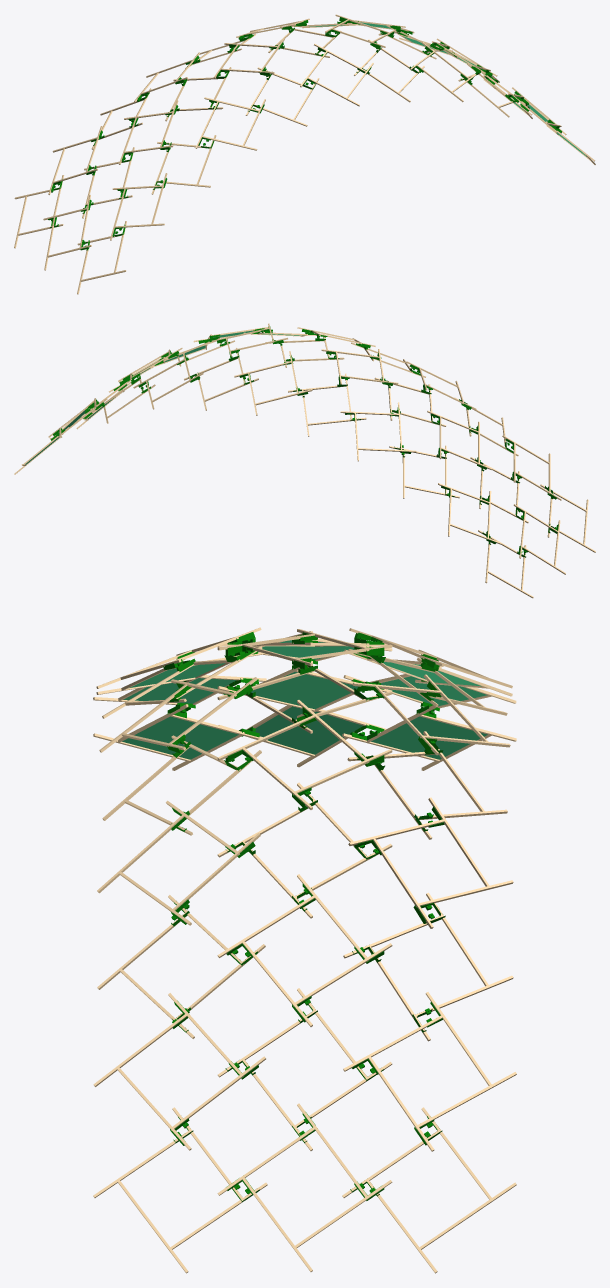
File: DeLIGHT_Seaweed02.glb
3 renders of one model, top to bottom at view 1: azimuth 30°, elevation 25°; view 2: azimuth 150°, elevation 25°; view 3: azimuth 270°, elevation 25°, orthographic. The views are drawn at different scales.
Size of the model in its own units: 8.06 by 2.54 by 2.85.
